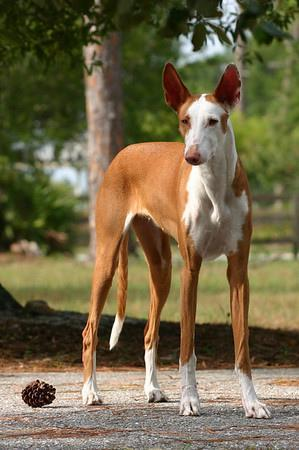Ibizan_hound: (80, 60, 270, 420)
